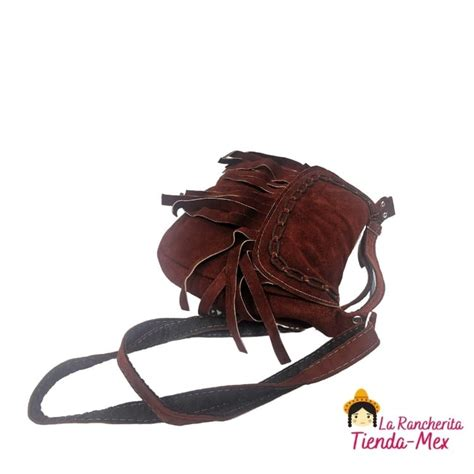gamuza: (158, 150, 381, 339)
